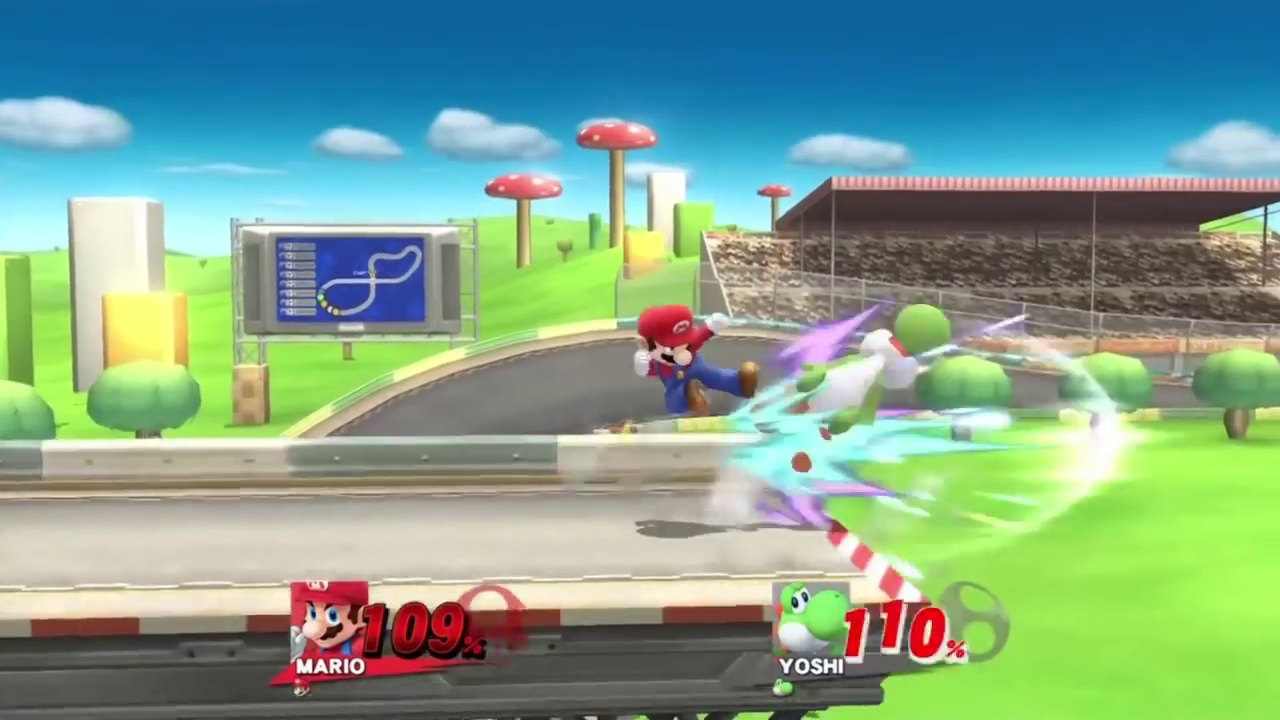Mario: (632, 303, 758, 417)
